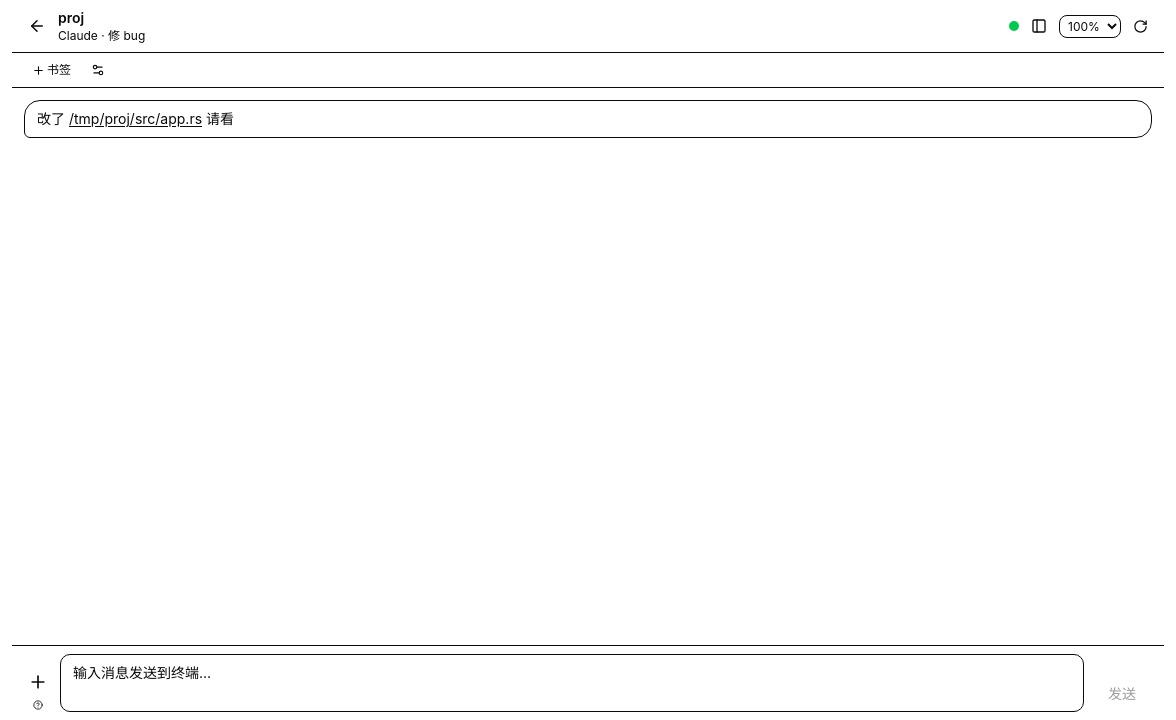
Test case: SessionDetail：文件链接化与预览联动 › 分屏态对话能力（2026-09-19 用户裁决回归锁） › 非 waiting 态分屏下不渲染红卡（状态门不变）
The width and height of the screenshot is (1176, 720).
Step 1. Click the button with test id "file-link" → (135, 119), box [69,109,202,129]
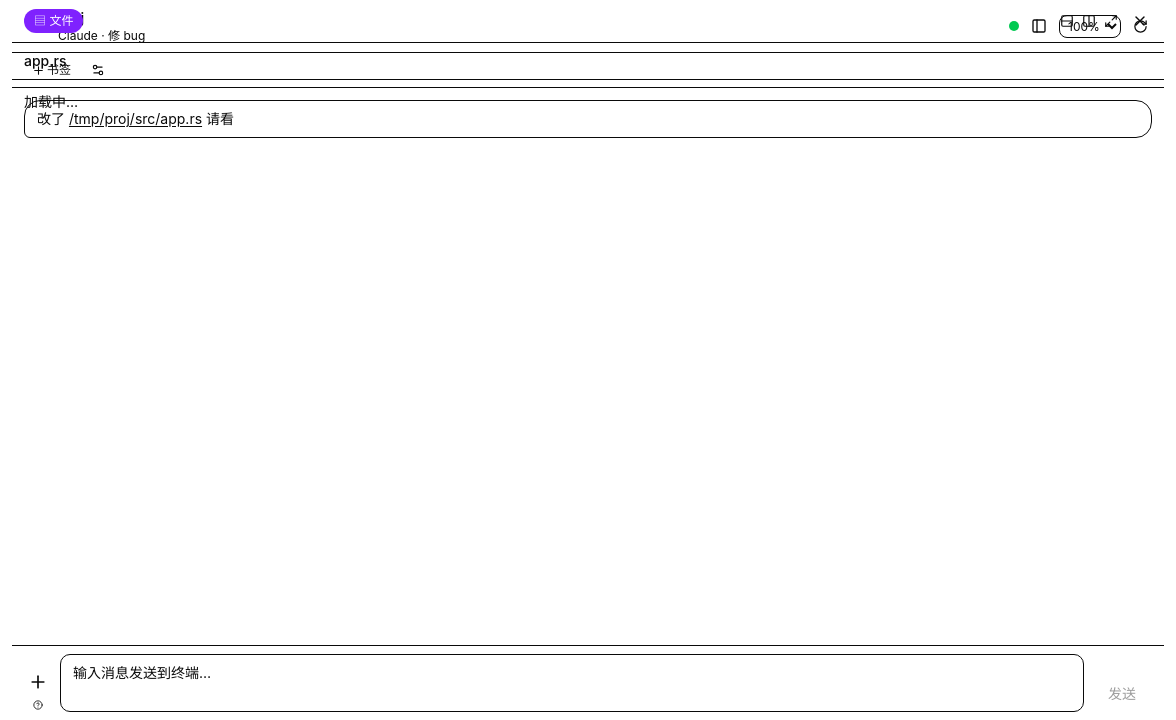
Step 2. Click the button with test id "preview-toggle-split" → (1067, 21), box [1056,10,1078,32]
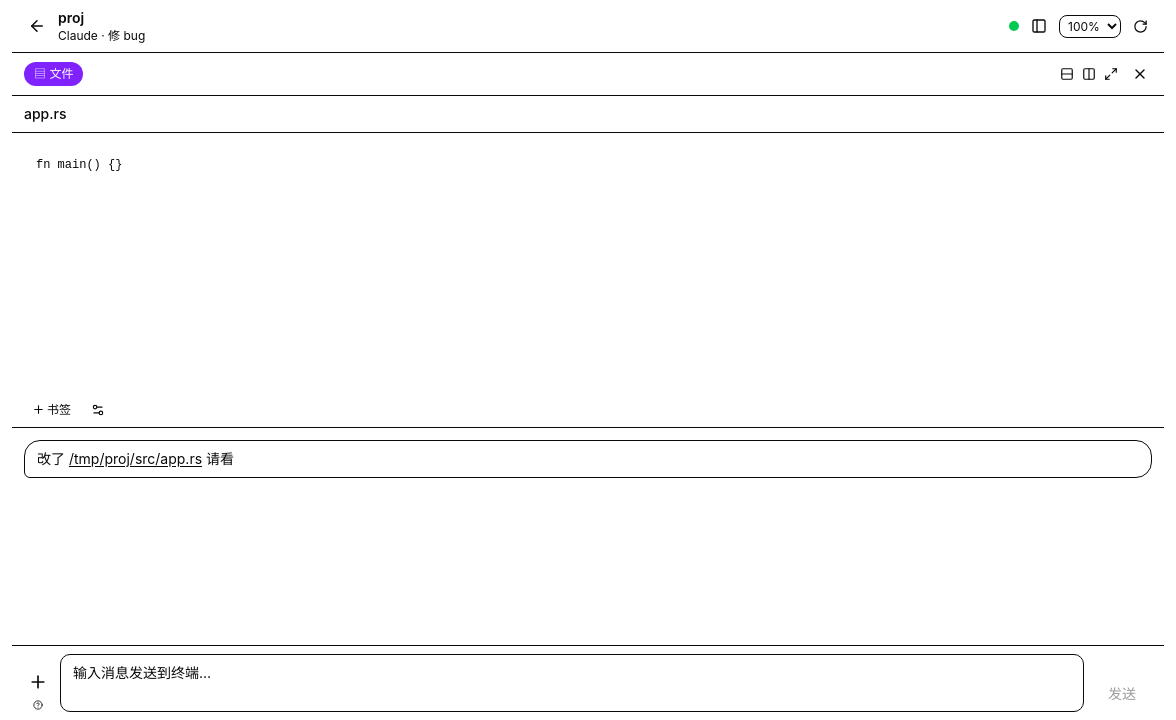
Expected: the element with test id "message-composer" is shown, [12,645,1164,719]
Result: the element with test id "split-container" is shown
